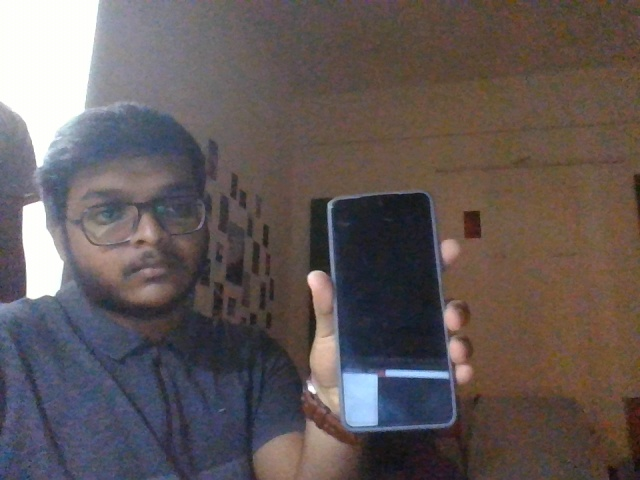Phone: (324, 194, 456, 428)
